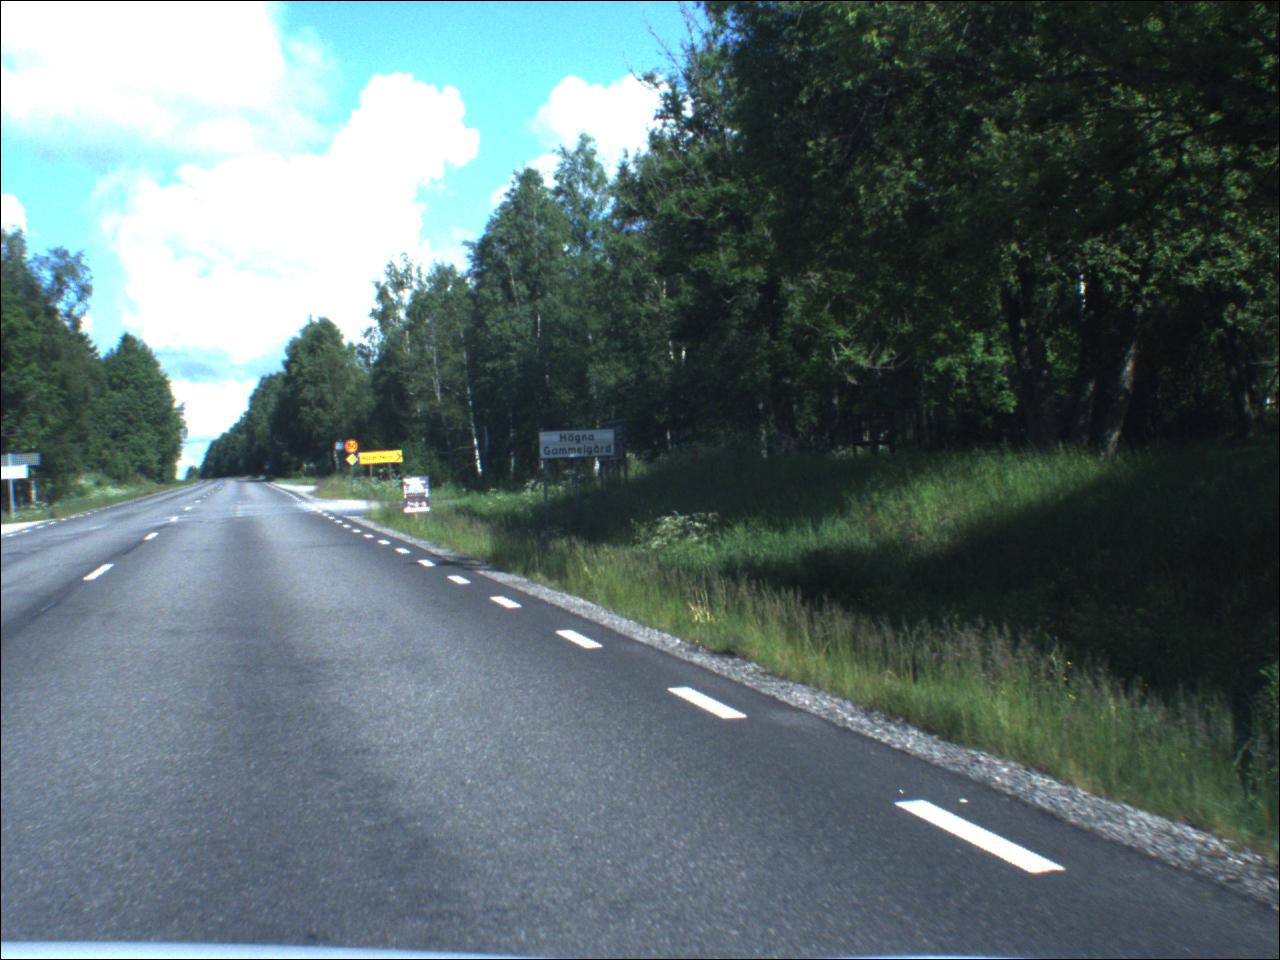80_SIGN: (346, 440, 361, 455)
PRIORITY_ROAD: (348, 455, 361, 468)
